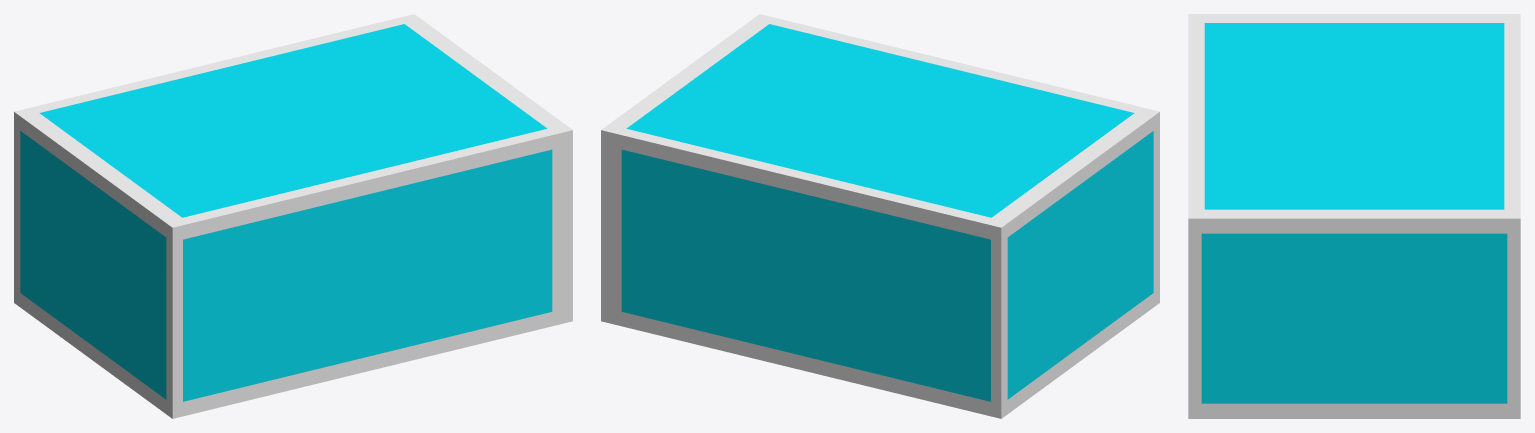
The model's file is Sera.fbx.
The picture shows the model from 3 angles, left to right: view 1: azimuth 30°, elevation 25°; view 2: azimuth 150°, elevation 25°; view 3: azimuth 270°, elevation 25°; orthographic projection. The views are drawn at different scales.
Visible parts, largest first — view 1: Glass; view 2: Glass; view 3: Glass.
Boxes of the visible parts, <box> form: Glass: <box>14,14,572,418</box>; Glass: <box>601,14,1159,418</box>; Glass: <box>1188,14,1520,418</box>.
Size of the model in its own units: 223 by 102 by 153.
